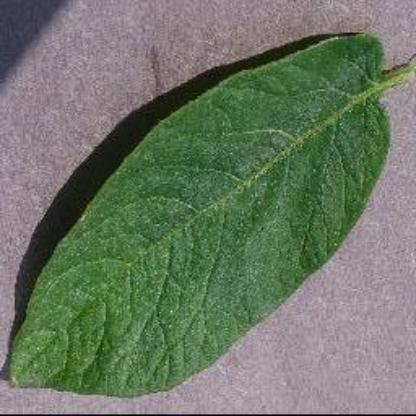Healthy-plant: (11, 32, 407, 398)
